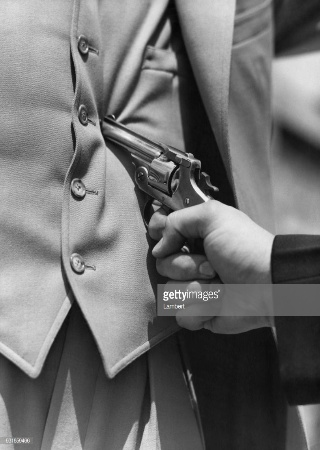handgun: (98, 105, 222, 245)
